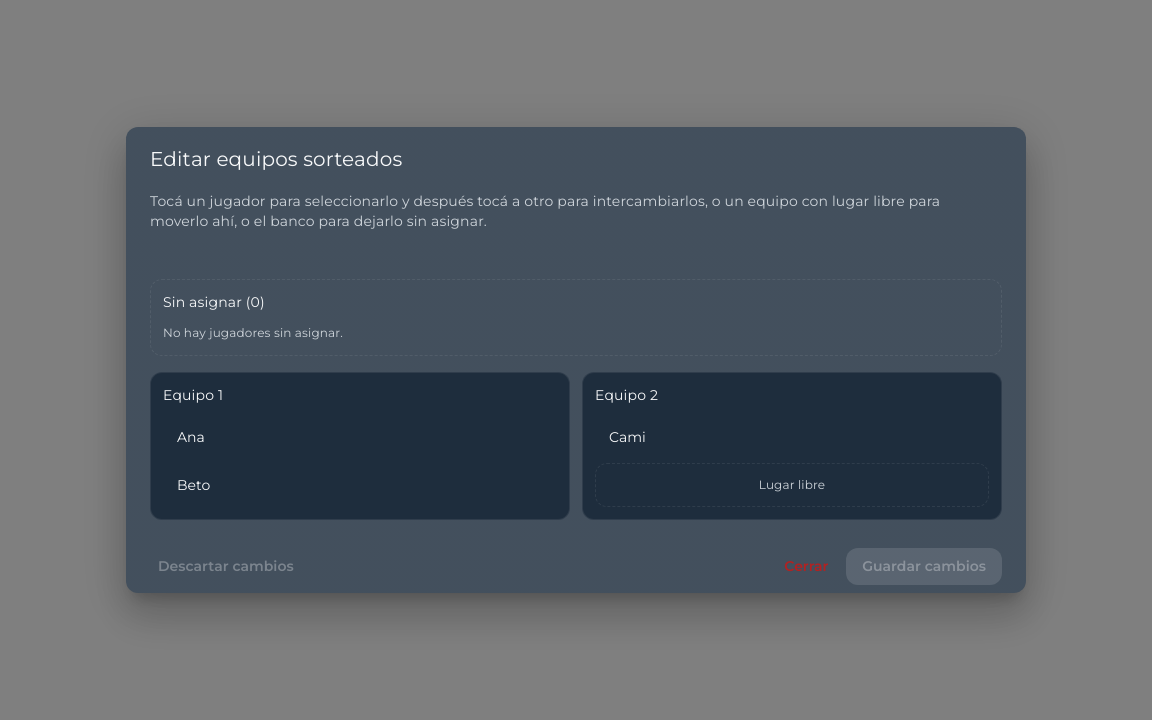
Test: TeamRosterEditor › mueve un jugador a un lugar libre de otro equipo
Step 1. Click the button "Ana" → point(191, 437), box [163,415,557,459]
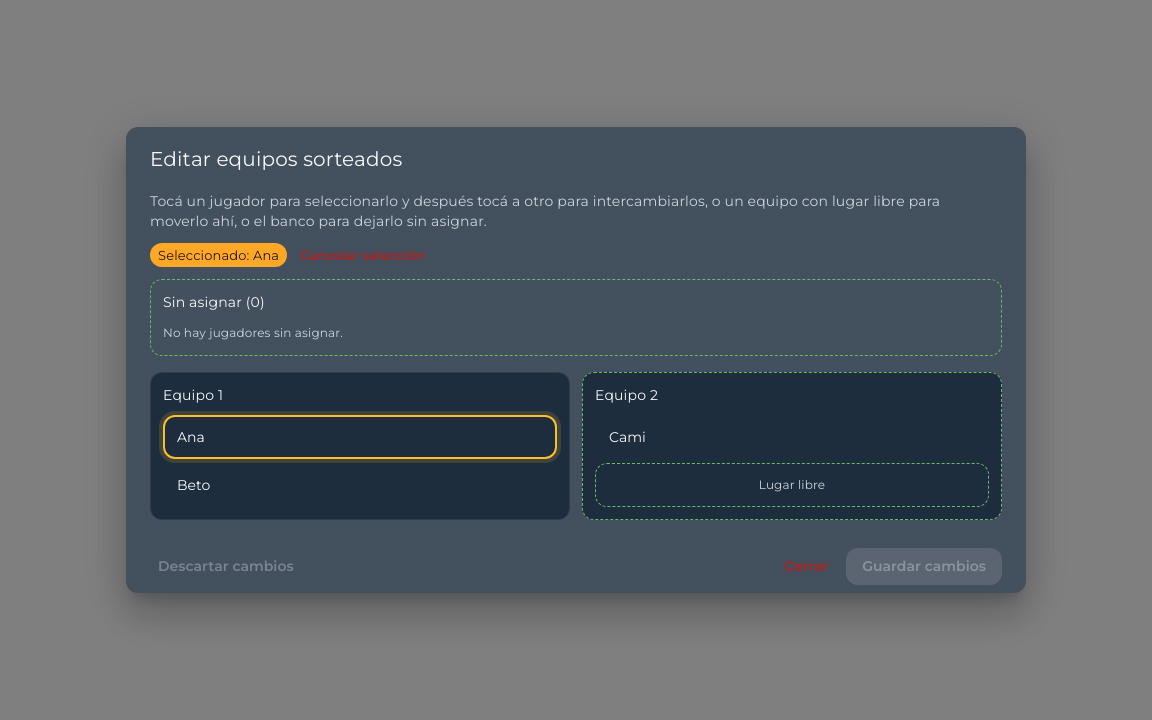
Step 2. Click the text "Lugar libre" → point(792, 485), box [759,475,825,495]
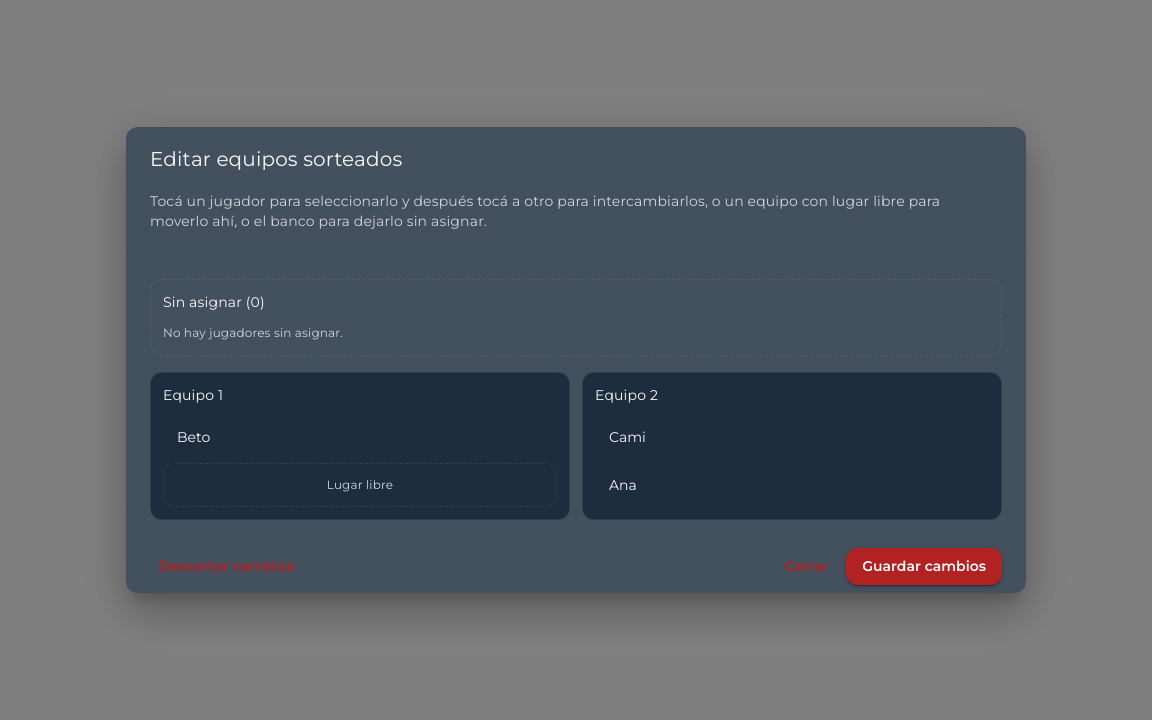
Check: the text "Cami" is shown, box [609,427,646,447]
Check: the text "Ana" is shown, box [609,475,637,495]
